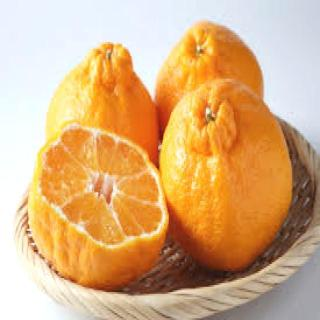orange: (162, 73, 314, 284), (4, 107, 172, 277)
